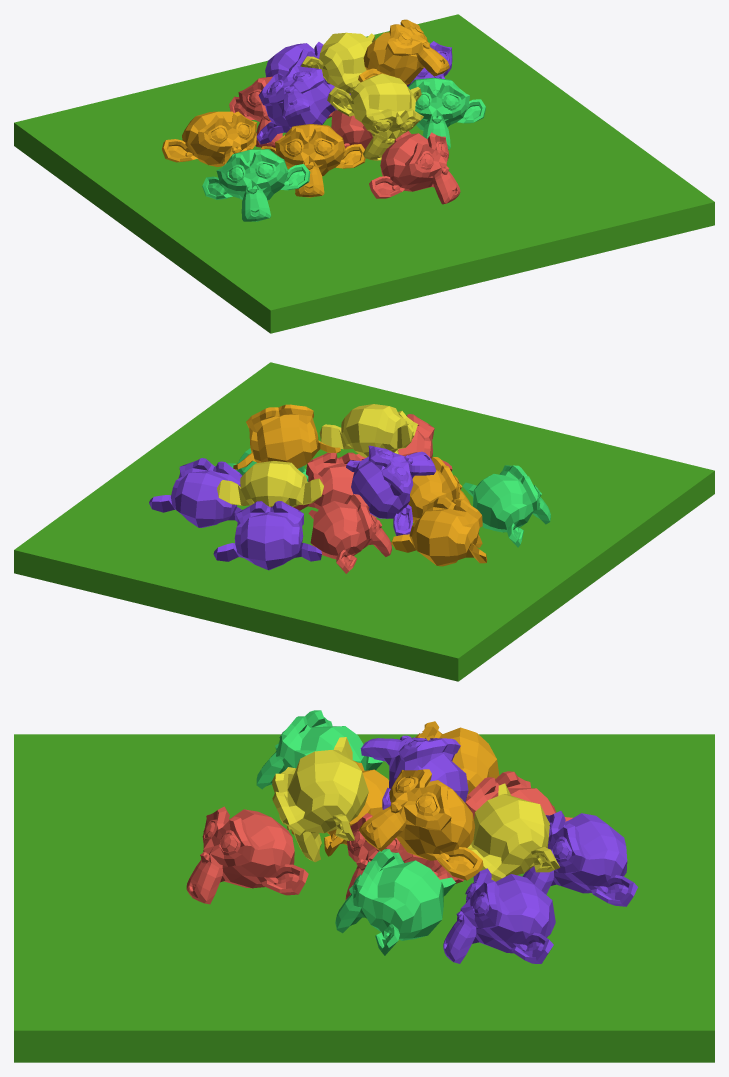
Rendered from BlenderScene.gltf.
3 renders of one model, top to bottom at view 1: azimuth 30°, elevation 25°; view 2: azimuth 150°, elevation 25°; view 3: azimuth 270°, elevation 25°, orthographic. The views are drawn at different scales.
Visible parts, largest first — view 1: Cube, Suzanne.009, Suzanne.003, Suzanne.002, Suzanne.012, Suzanne.006, Suzanne.001, Suzanne.013, Suzanne.007, Suzanne.011, Suzanne.008, Suzanne.005 (+1 smaller); view 2: Cube, Suzanne.005, Suzanne.012, Suzanne.001, Suzanne.013, Suzanne.003, Suzanne.008, Suzanne.004, Suzanne.009, Suzanne.011, Suzanne, Suzanne.006 (+1 smaller); view 3: Cube, Suzanne.013, Suzanne.002, Suzanne.004, Suzanne.009, Suzanne.007, Suzanne.005, Suzanne.011, Suzanne.012, Suzanne.003, Suzanne.001, Suzanne (+2 smaller).
Part boxes in pixels (left/top/right/bottom): Cube: left=14, top=14, right=714, bottom=333; Suzanne.009: left=327, top=73, right=423, bottom=160; Suzanne.003: left=202, top=149, right=310, bottom=221; Suzanne.002: left=369, top=132, right=460, bottom=204; Suzanne.012: left=256, top=66, right=350, bottom=144; Suzanne.006: left=261, top=124, right=365, bottom=197; Suzanne.001: left=162, top=111, right=257, bottom=166; Suzanne.013: left=358, top=19, right=449, bottom=84; Suzanne.007: left=408, top=77, right=485, bottom=149; Suzanne.011: left=300, top=32, right=374, bottom=111; Suzanne.008: left=229, top=76, right=333, bottom=147; Suzanne.005: left=265, top=42, right=334, bottom=90; Cube: left=14, top=362, right=714, bottom=681; Suzanne.005: left=213, top=501, right=321, bottom=570; Suzanne.012: left=346, top=445, right=436, bottom=535; Suzanne.001: left=391, top=496, right=487, bottom=566; Suzanne.013: left=233, top=404, right=340, bottom=469; Suzanne.003: left=462, top=465, right=550, bottom=547; Suzanne.008: left=308, top=494, right=391, bottom=573; Suzanne.004: left=149, top=458, right=242, bottom=527; Suzanne.009: left=319, top=404, right=417, bottom=457; Suzanne.011: left=217, top=461, right=323, bottom=507; Suzanne: left=294, top=452, right=361, bottom=510; Suzanne.006: left=408, top=457, right=470, bottom=522; Cube: left=14, top=734, right=714, bottom=1062; Suzanne.013: left=359, top=769, right=483, bottom=880; Suzanne.002: left=186, top=806, right=308, bottom=904; Suzanne.004: left=443, top=868, right=555, bottom=963; Suzanne.009: left=272, top=737, right=368, bottom=862; Suzanne.007: left=335, top=849, right=455, bottom=955; Suzanne.005: left=522, top=811, right=637, bottom=906; Suzanne.011: left=467, top=783, right=560, bottom=881; Suzanne.012: left=360, top=735, right=468, bottom=809; Suzanne.003: left=256, top=710, right=382, bottom=789; Suzanne.001: left=415, top=721, right=499, bottom=803; Suzanne: left=345, top=813, right=463, bottom=900.
Bounding box in the file's own units: 6.41 × 1.82 × 6.41.
